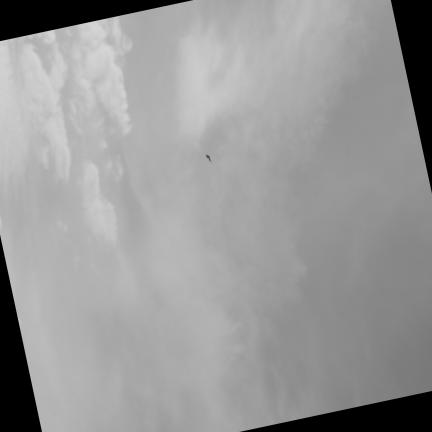Shahed: (205, 155, 211, 163)
